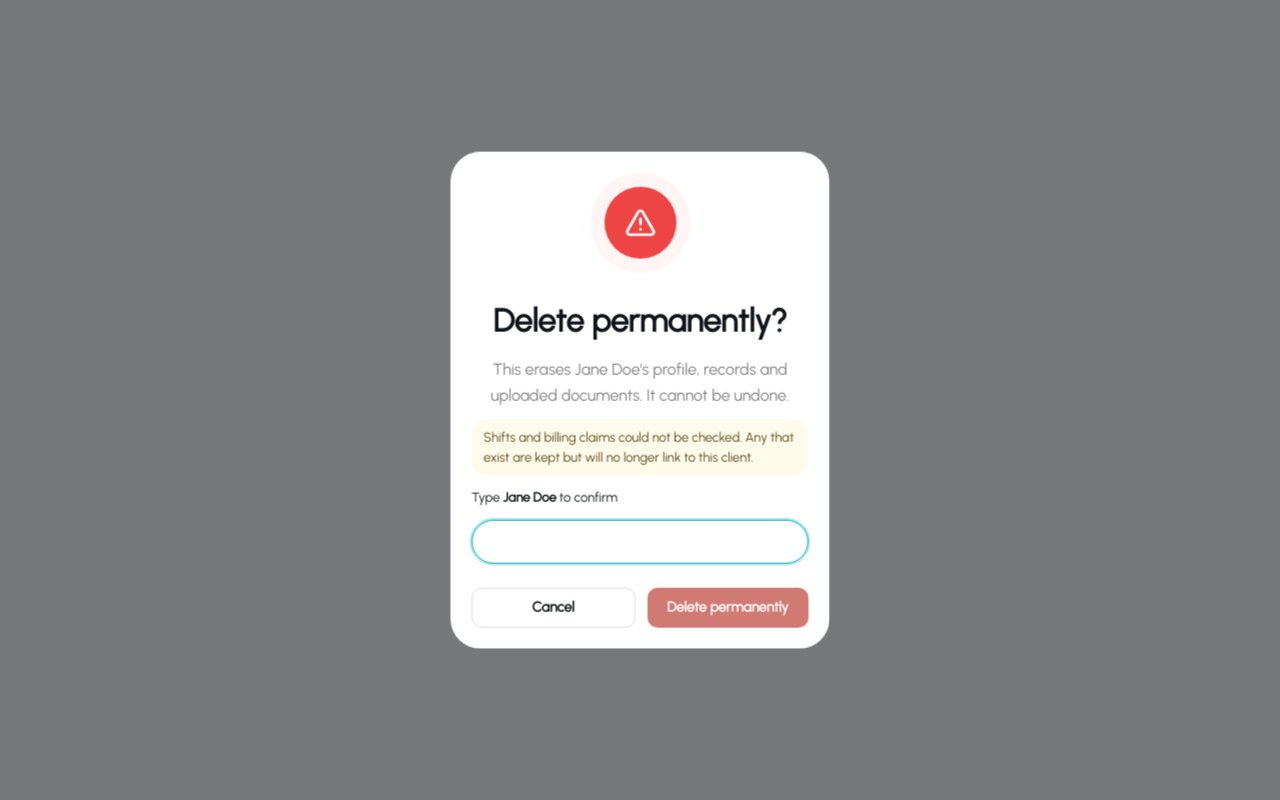
Test case: still allows deleting when the history check fails, with a warning
Expected: the text "Shifts and billing claims could not be checked" is shown, 484,430 -> 797,465
Type "Jane Doe" into the field labelled "Type Jane Doe to confirm". click: (640, 541)
box: 472,519 -> 808,563
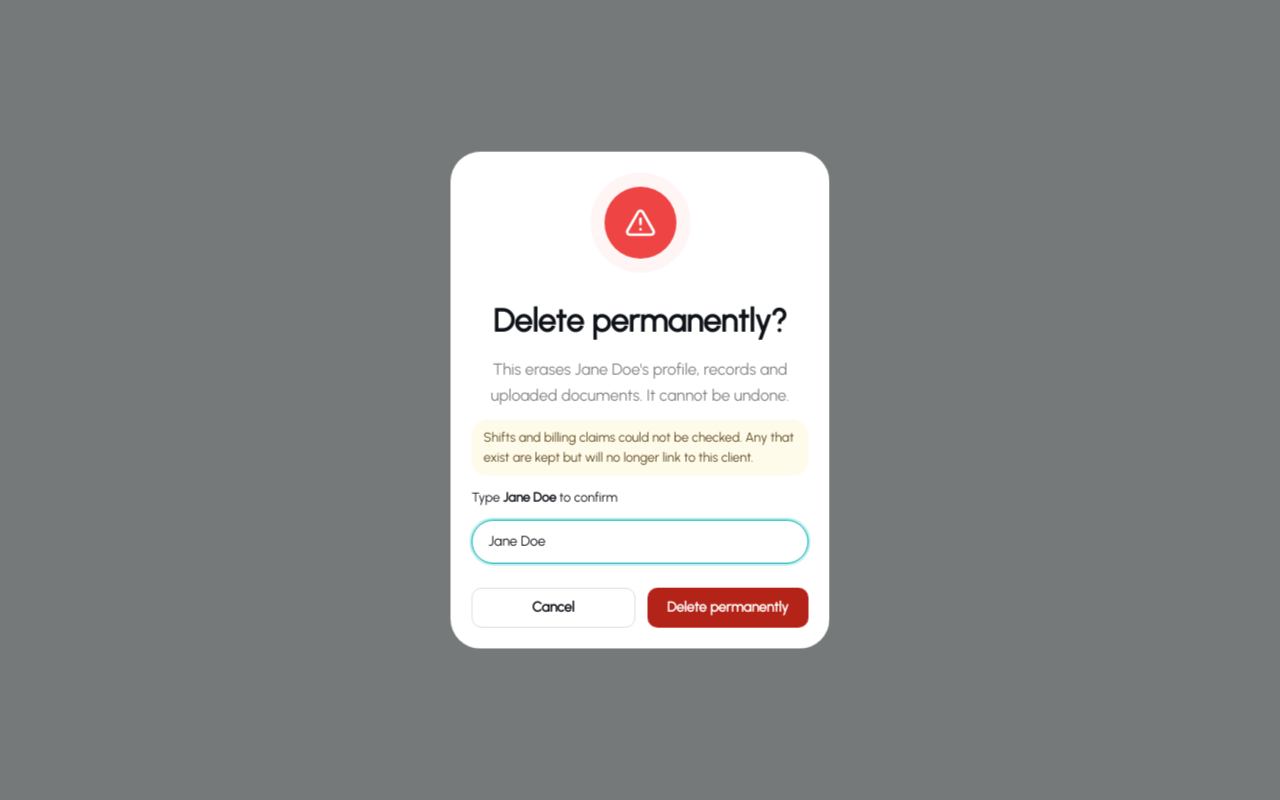
Result: the button "Delete permanently" is enabled at 647,587 -> 808,627
